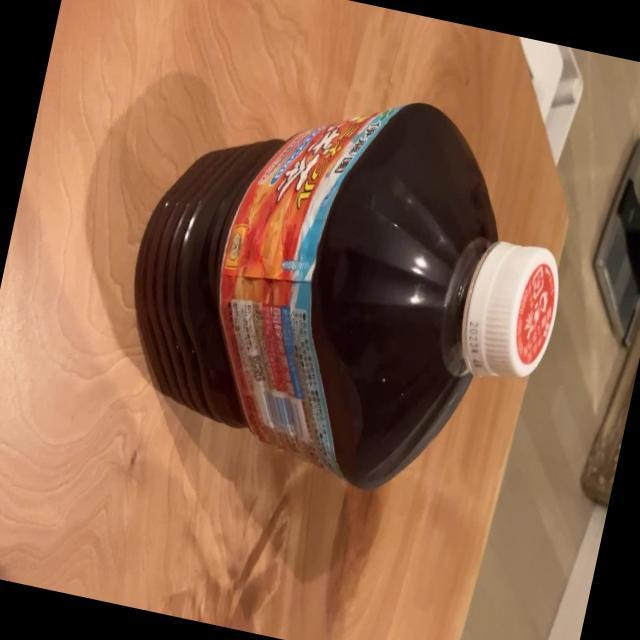good: (102, 44, 596, 523)
